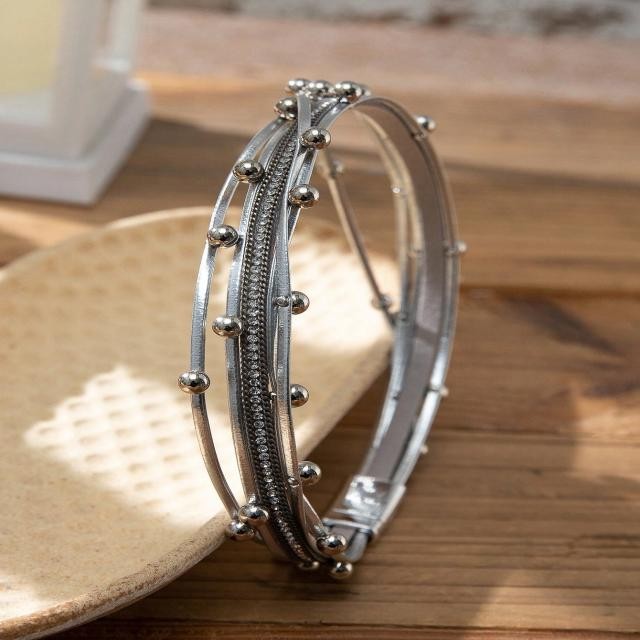bracelet: (110, 20, 534, 634)
